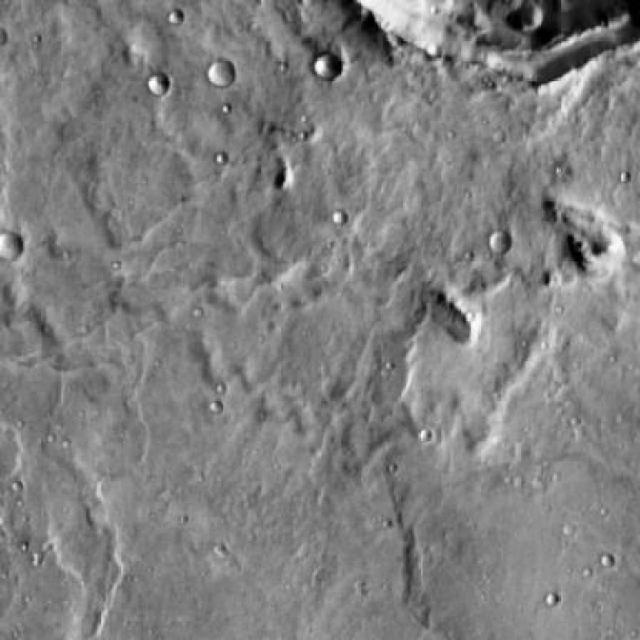crater: (314, 50, 344, 79), (0, 228, 23, 260), (209, 62, 234, 87), (487, 230, 511, 252), (147, 73, 167, 93)
